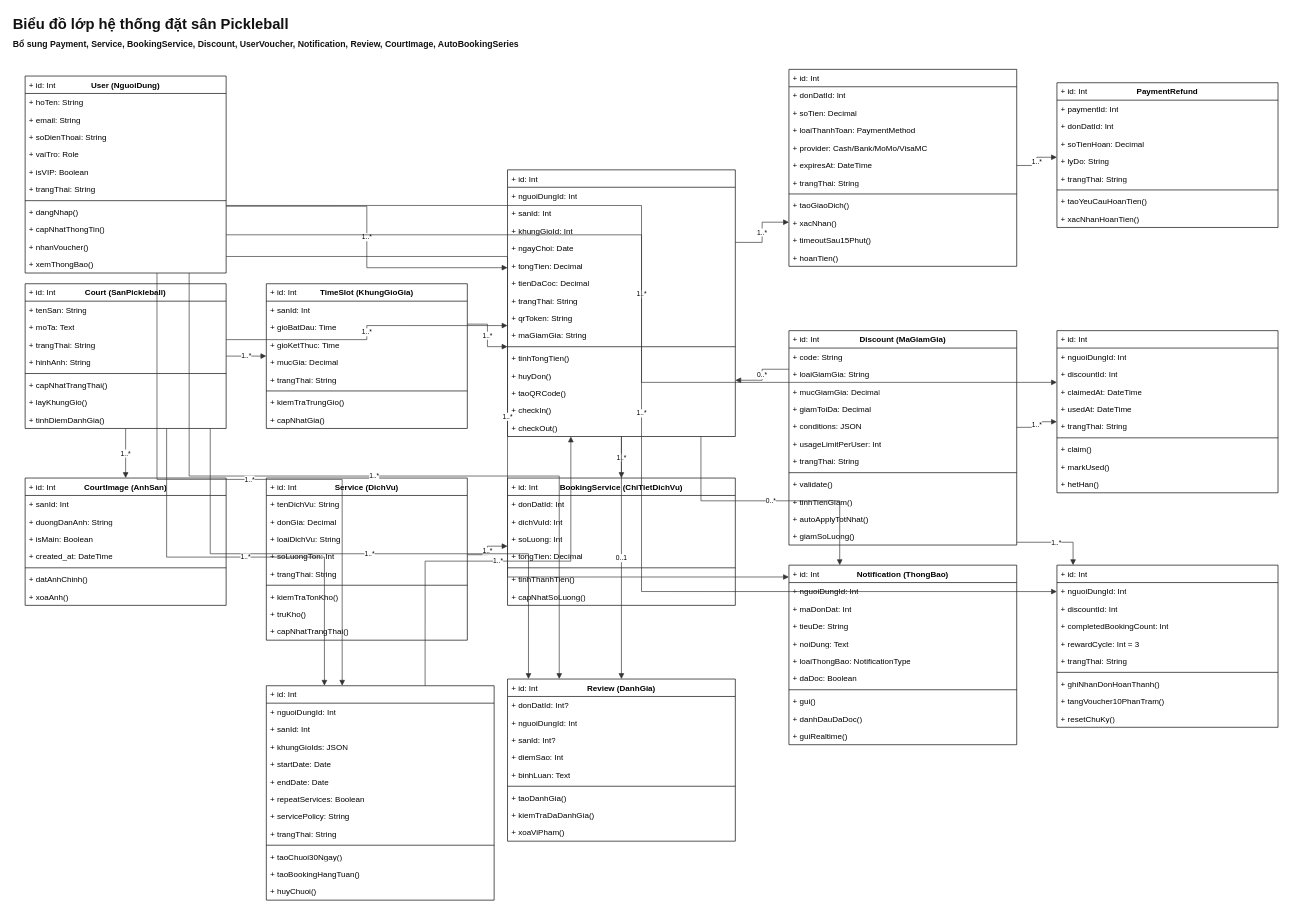
This 1290x913 diagram has some shape labels left out. Each missing label, with the box of its shape:
AutoBookingSeries: (266, 685, 494, 900)
Booking (DonDatSan): (507, 169, 735, 437)
LoyaltyReward: (1056, 564, 1278, 727)
Payment (ThanhToan): (788, 69, 1017, 266)
UserVoucher (VoucherNguoiDung): (1056, 330, 1278, 493)
